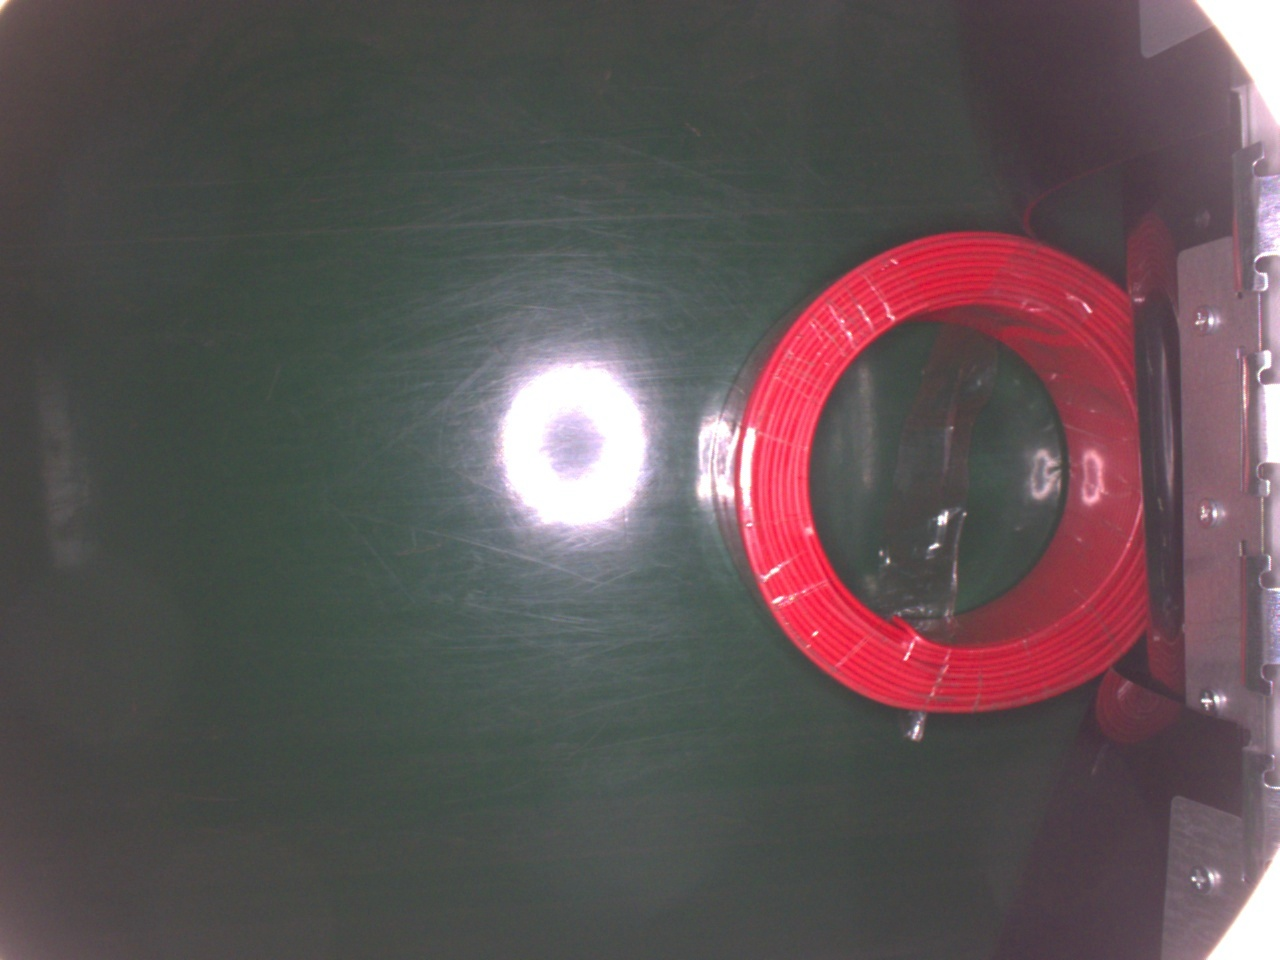red: (711, 228, 1152, 718)
